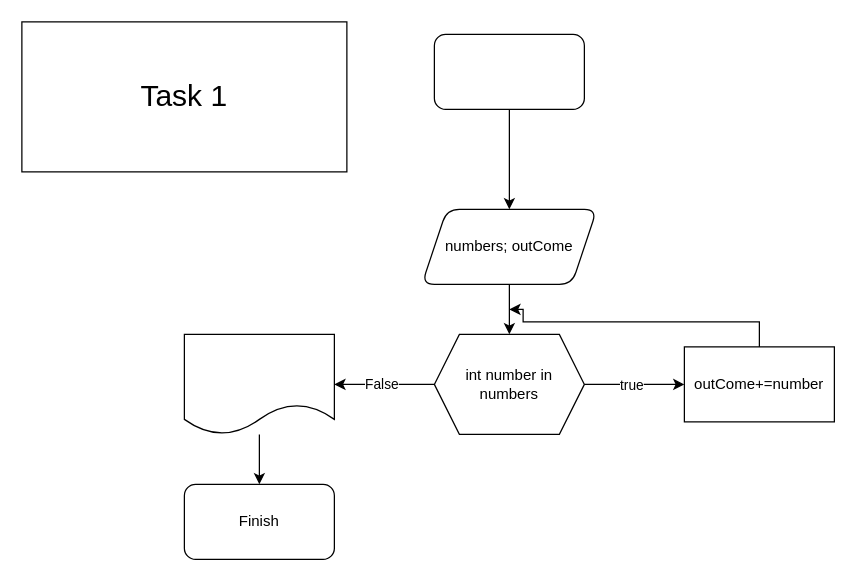
Some shapes in this 856 by 581 pixel diagram are drawn without their labels. Each missing label, with the centre of its shape:
"outCome" goes at [258,383].
"Start" goes at [508,71].
